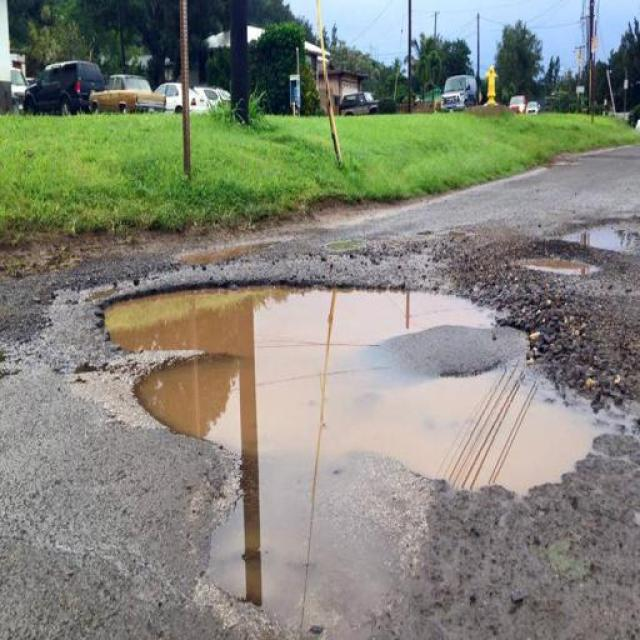puddle: (125, 294, 587, 496), (573, 230, 623, 258)
